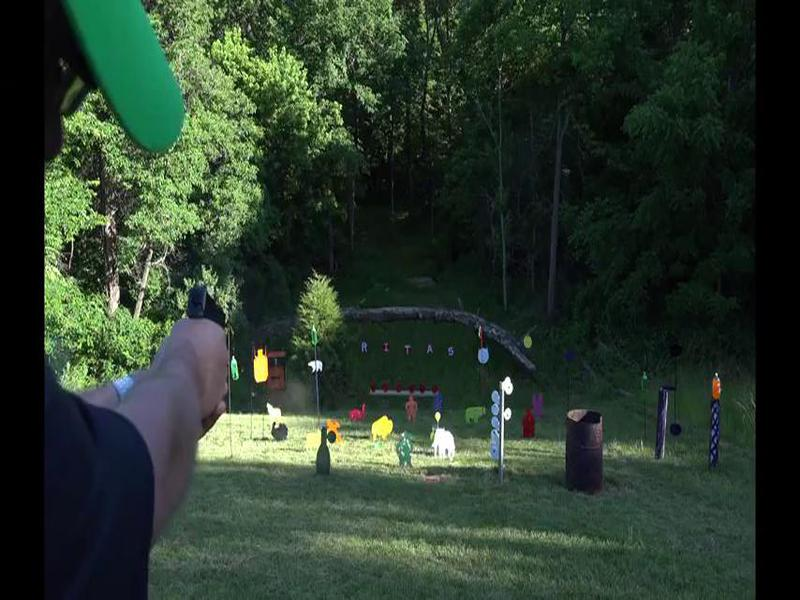Pistola: (168, 264, 232, 355)
